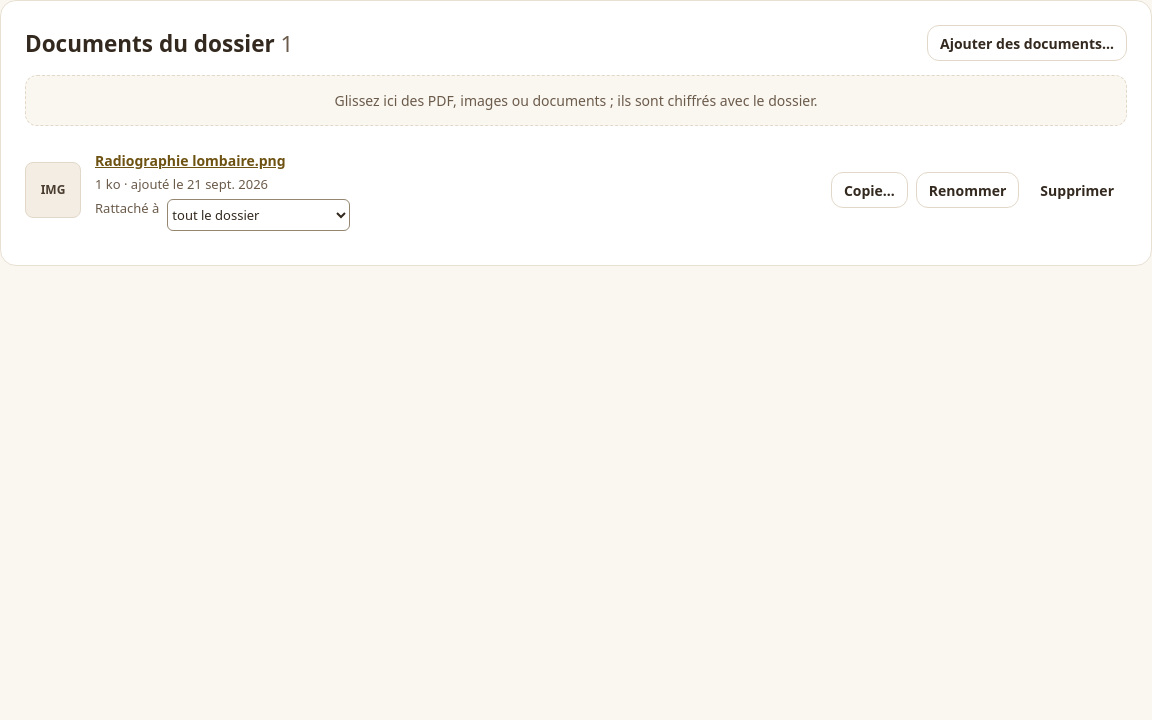
pièces jointes › montre l'aperçu d'une image et le referme
This screenshot has width=1152, height=720.
Expected: the button "Radiographie lombaire.png" is shown, [95,150,817,171]
Click the button with aria-label "Aperçu de Radiographie lombaire.png". click: (53, 190)
box: [25,162,81,218]
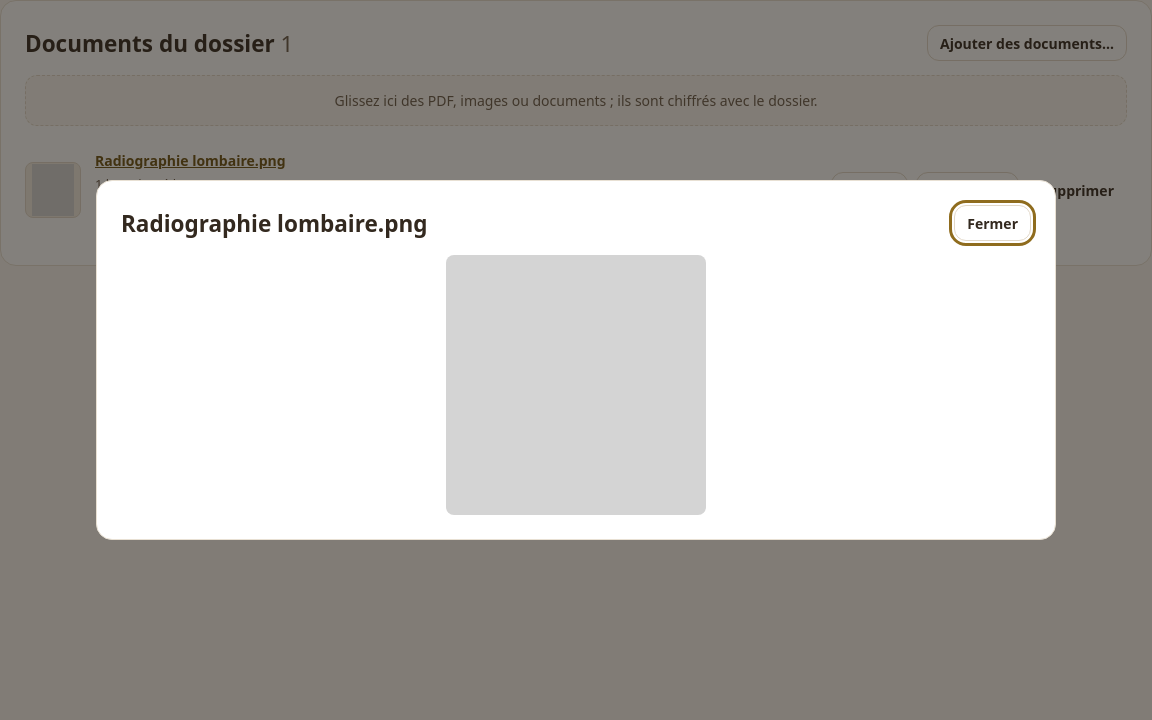
Click the button "Fermer". click: (993, 223)
box: [954,205,1031,241]
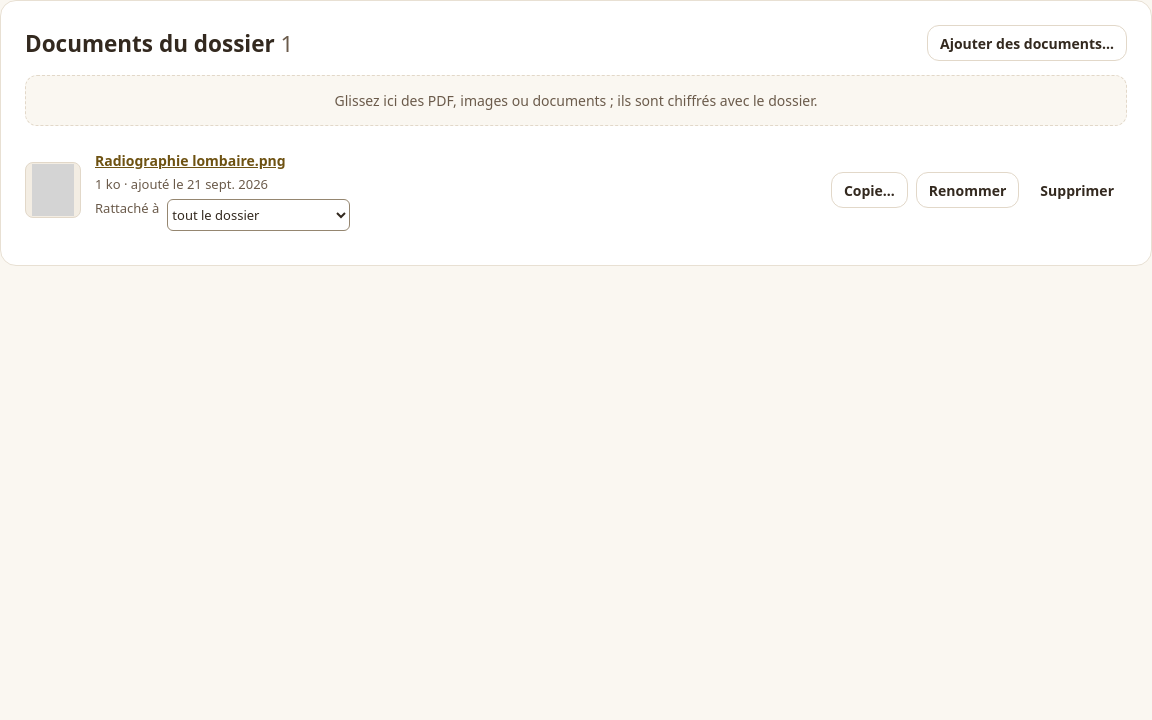
Now the dialog is gone
